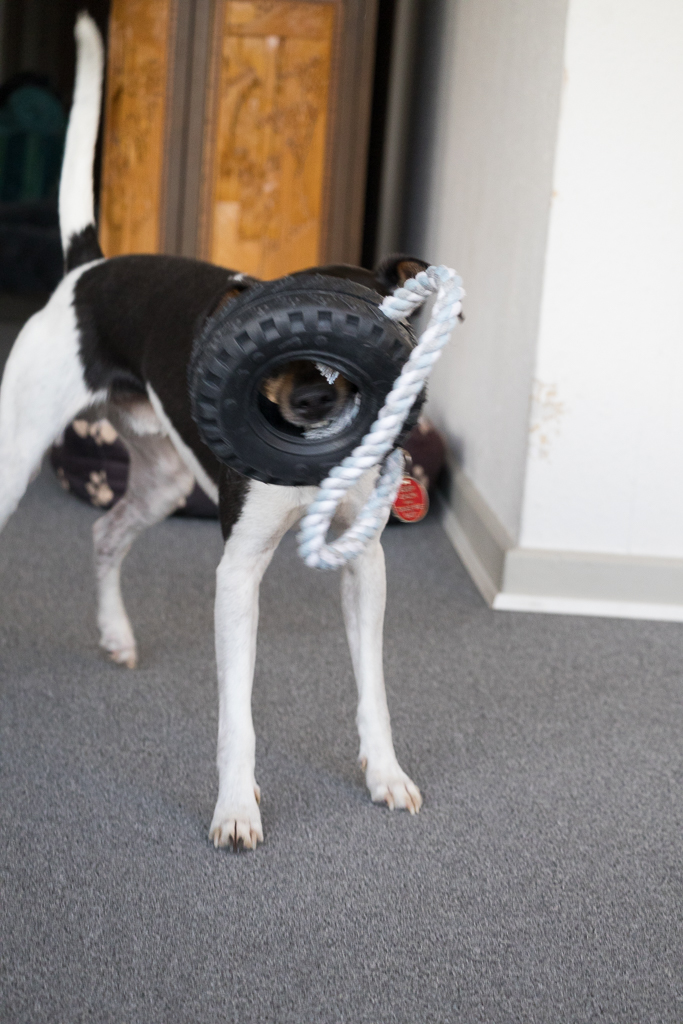Dog: (0, 7, 478, 865)
